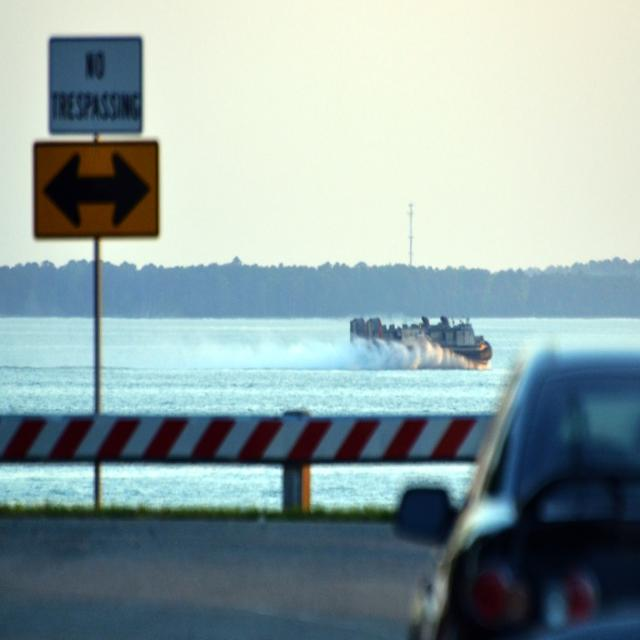Boat: (334, 307, 503, 378)
